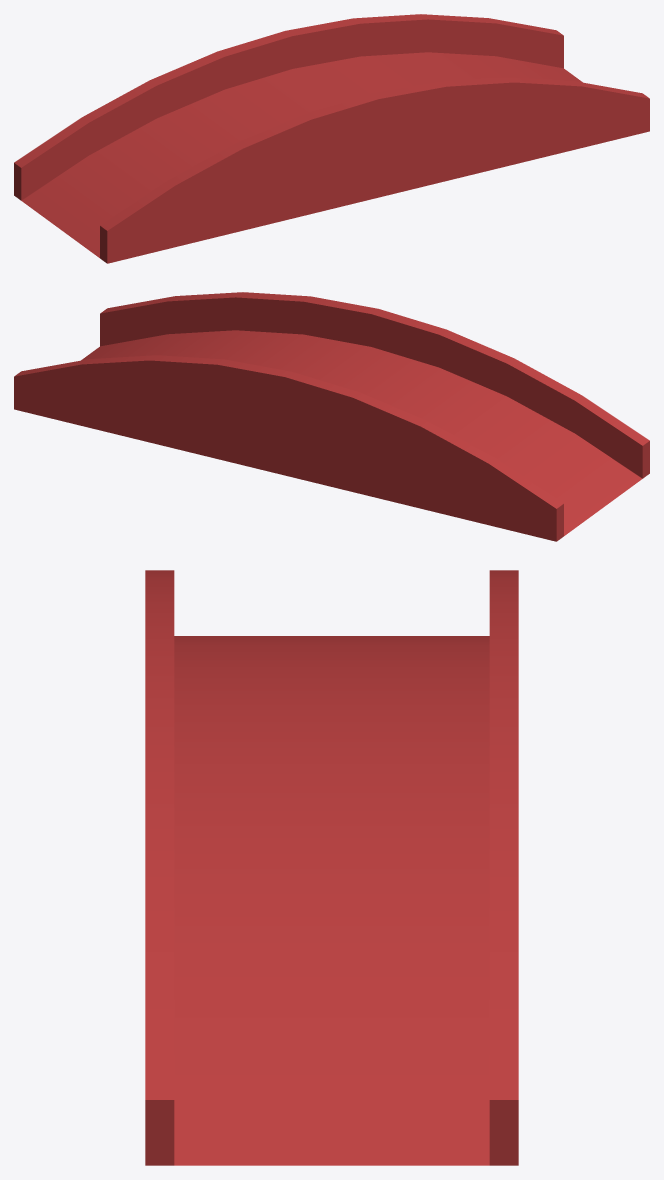
Rendered from r2c_red_bridge.fbx.
3 renders of one model, top to bottom at view 1: azimuth 30°, elevation 25°; view 2: azimuth 150°, elevation 25°; view 3: azimuth 270°, elevation 25°, orthographic. The views are drawn at different scales.
Parts seen in each view (by area): view 1: 개체_1; view 2: 개체_1; view 3: 개체_1.
Part boxes in pixels (x1,y1,x2,y2): 개체_1: [14, 14, 649, 263]; 개체_1: [14, 292, 649, 541]; 개체_1: [145, 570, 518, 1165].
Bounding box in the file's own units: 8.65 × 1.5 × 2.58.
